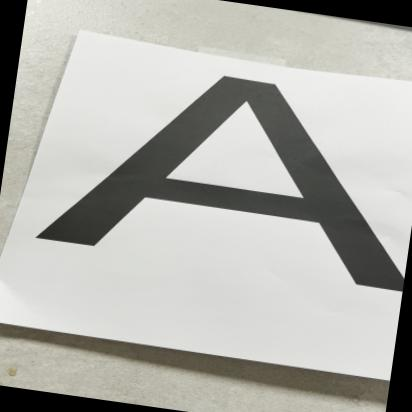seat: (28, 35, 412, 306)
